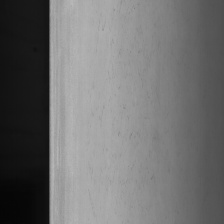silk_spot: (91, 7, 158, 195)
